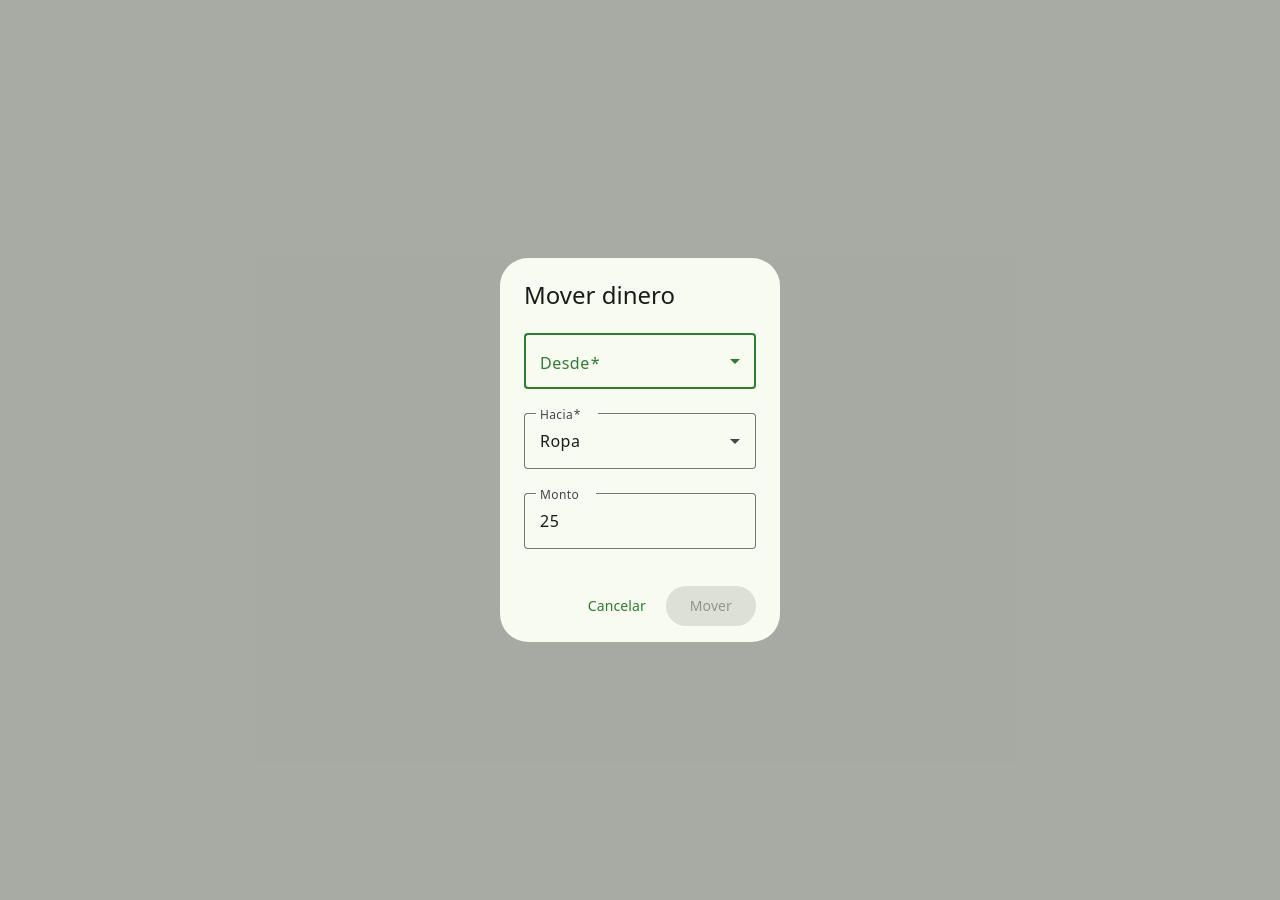
Test: DialogoMoverDineroComponent › cubrir sobregasto abre con el destino y el monto propuestos
expect the dropdown labelled "Ropa" is shown: met, box [540,429,740,453]
expect the field labelled "Monto" holds "25": met, box [540,509,740,533]
Click the 1st dropdown at [735, 361], box [723,349,747,373]
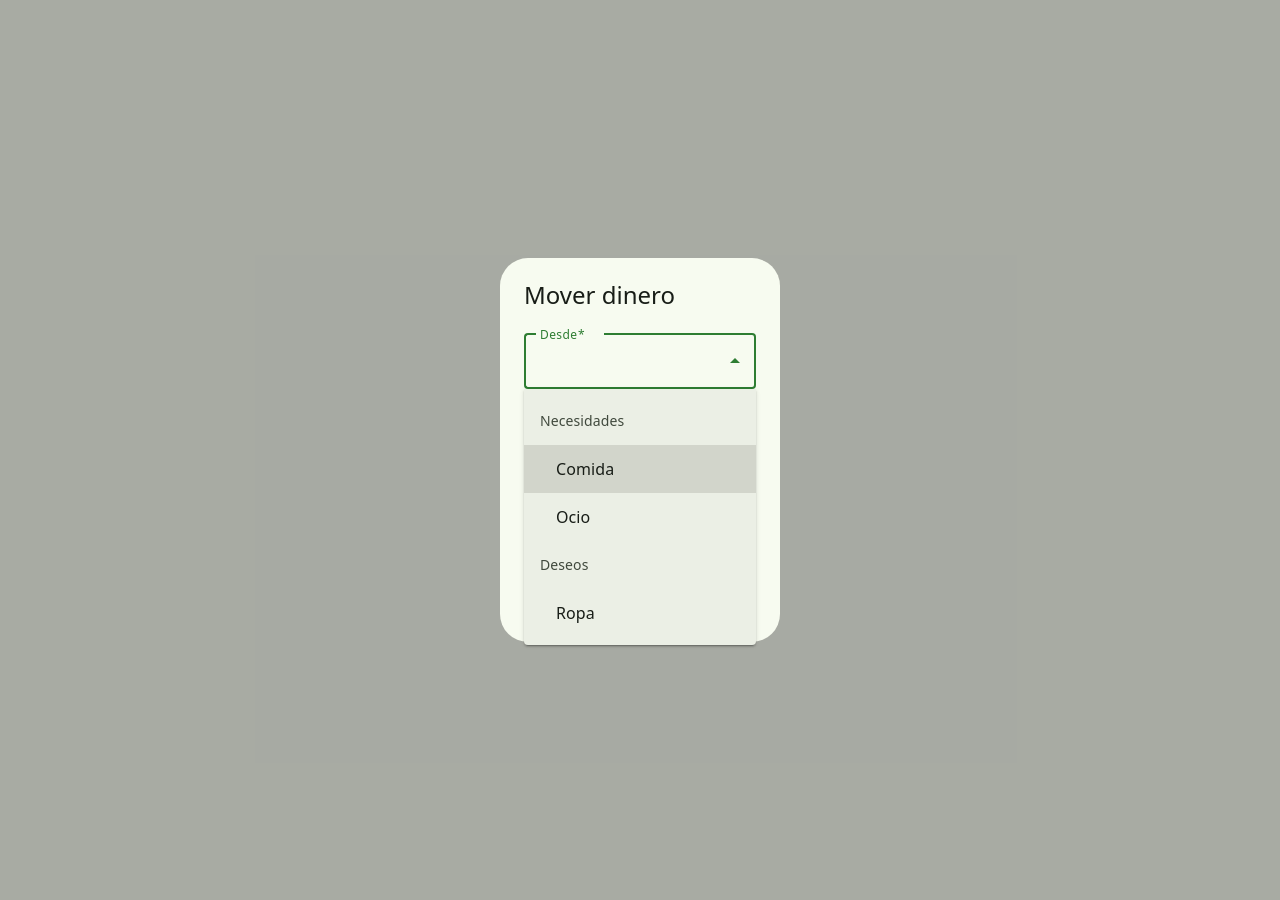
Click the option "Comida" at [640, 469], box [524,445,756,493]
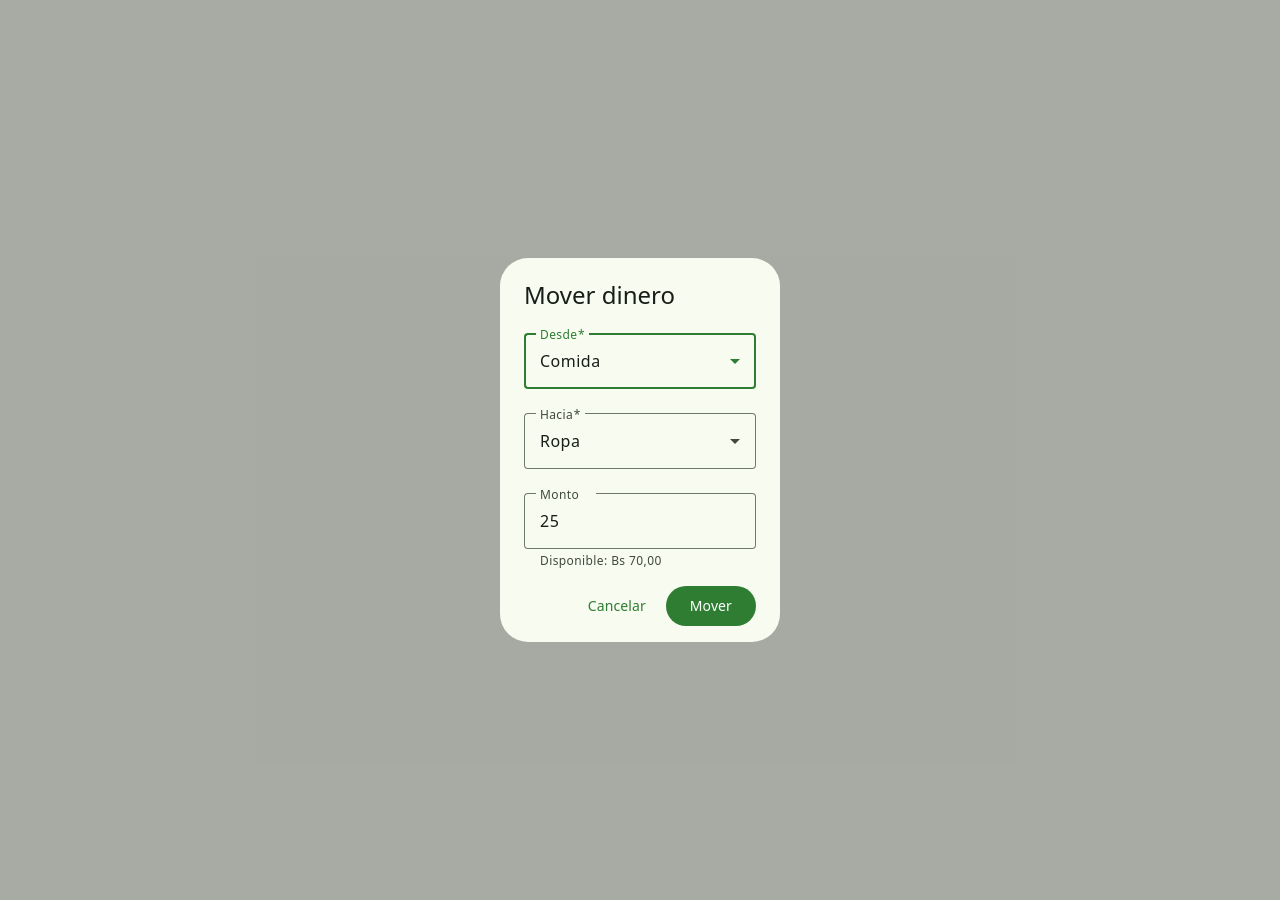
expect the button "MatButtonHarness" is enabled: met, box [666,586,756,626]
